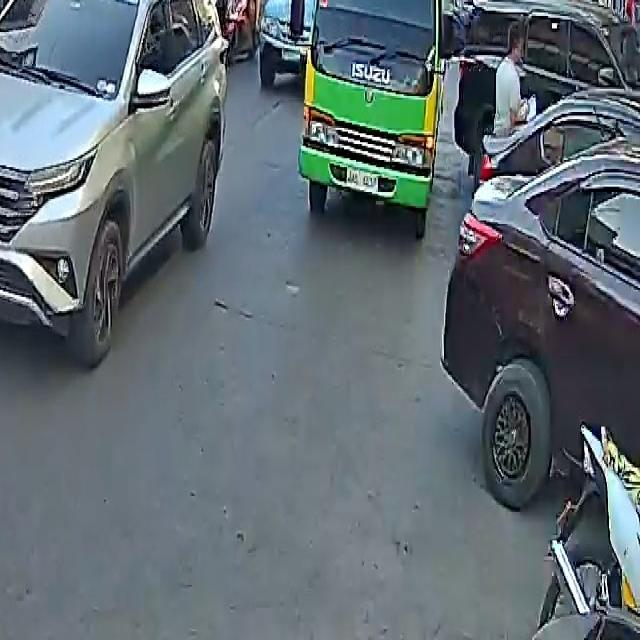car: (0, 0, 235, 363), (442, 142, 640, 508), (455, 0, 639, 181)
